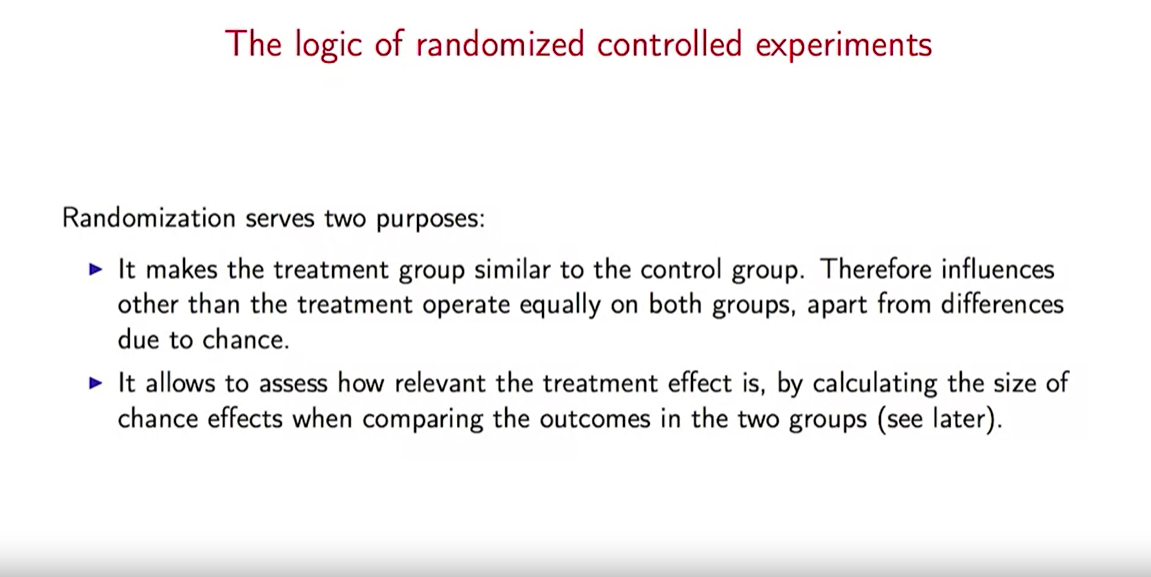text: (116, 253, 1066, 355), (117, 370, 1074, 434), (224, 26, 931, 64), (62, 203, 485, 235)
